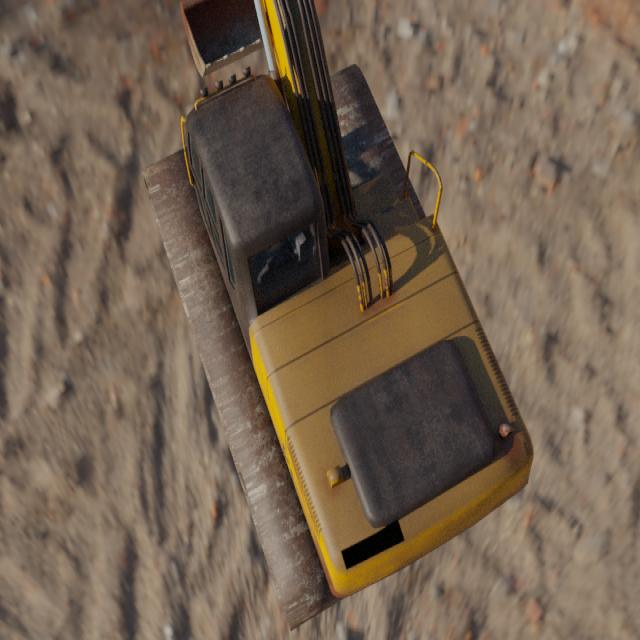excavator: (141, 0, 534, 632)
